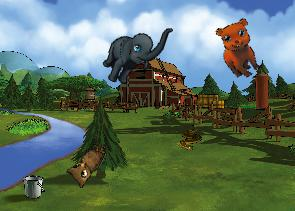bear: (208, 13, 273, 83)
elephant: (98, 11, 173, 95)
owl: (62, 136, 107, 190)
